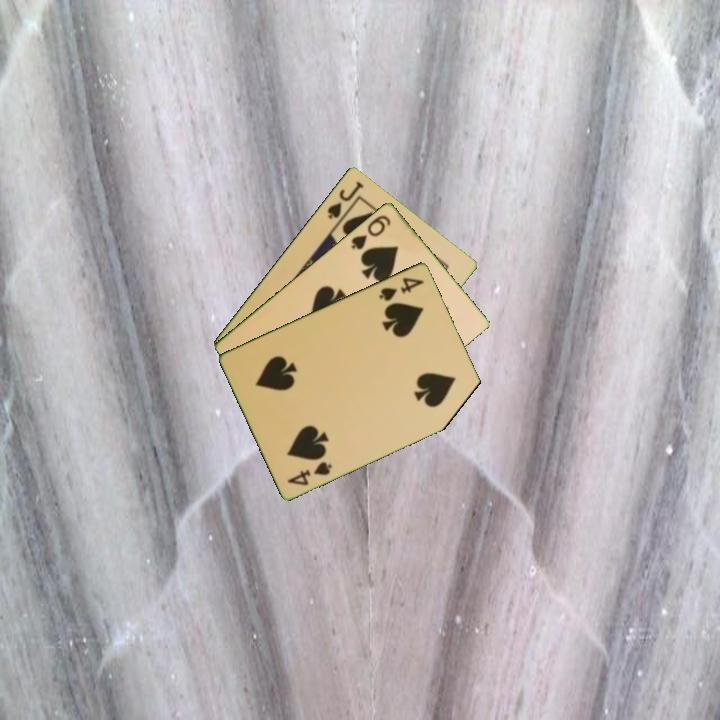4s: (375, 273, 427, 304), (284, 457, 335, 488)
6s: (347, 211, 394, 252)
Js: (323, 177, 367, 222)
